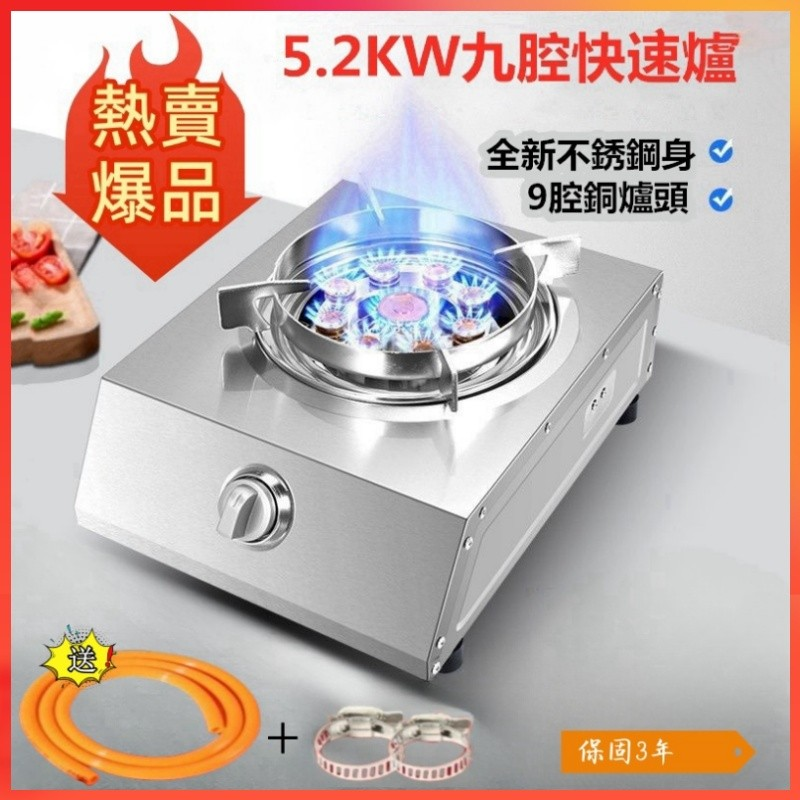gasoven: (50, 172, 668, 688)
